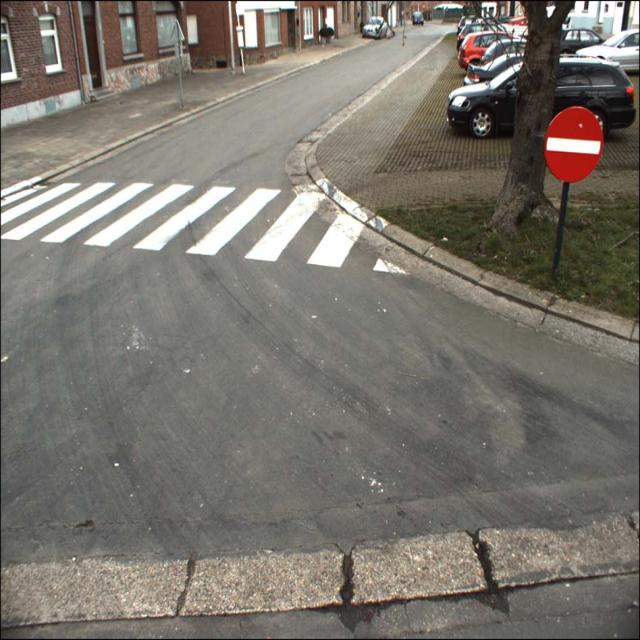girisyok: (546, 107, 602, 181)
